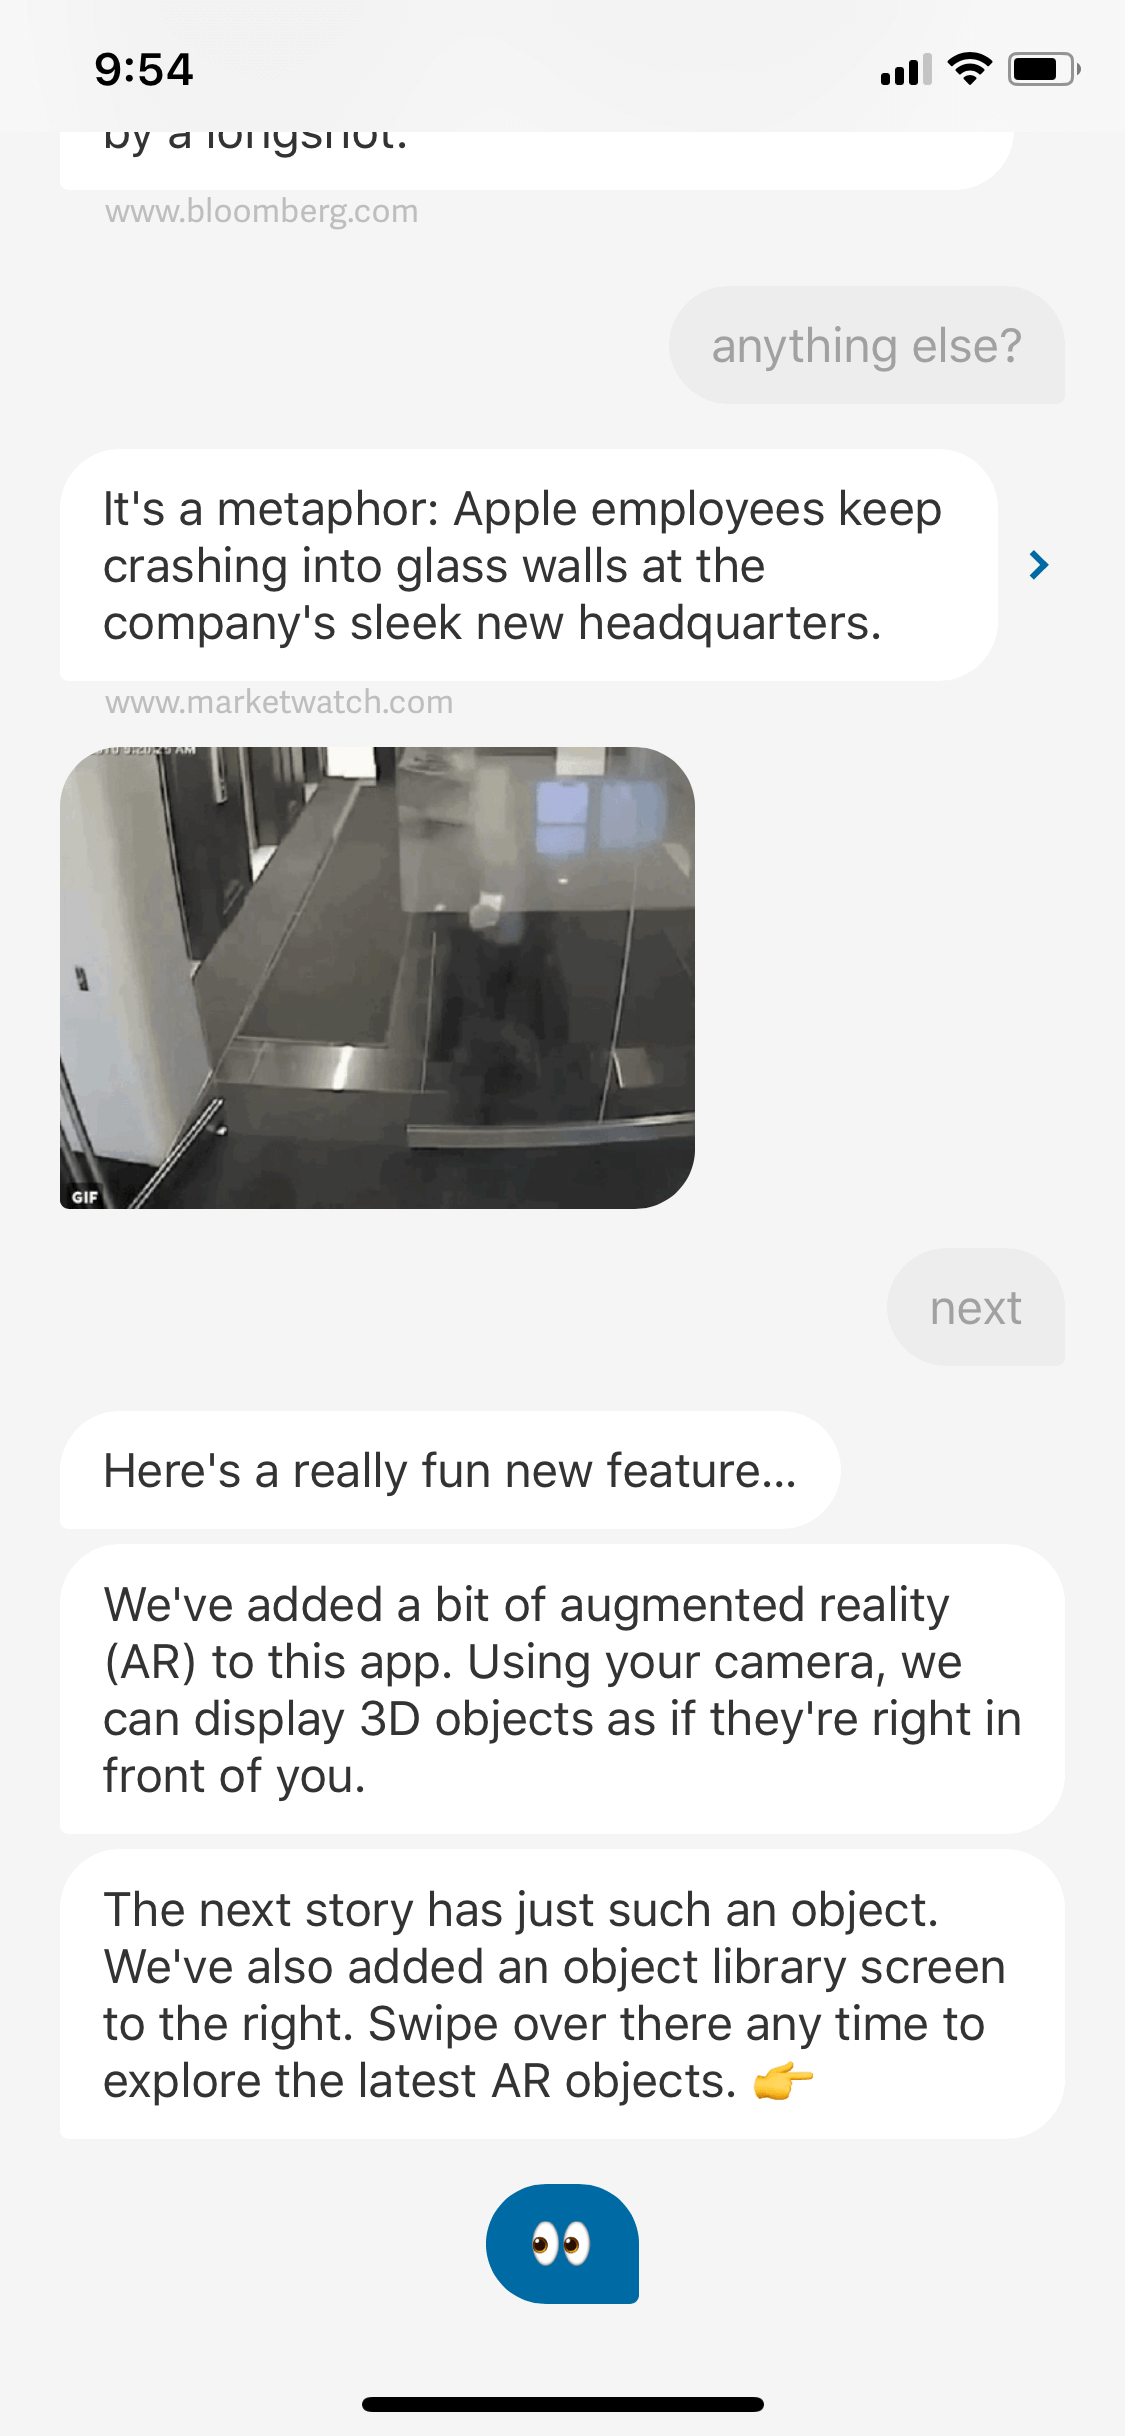Buttons: (463, 2161, 699, 2330)
